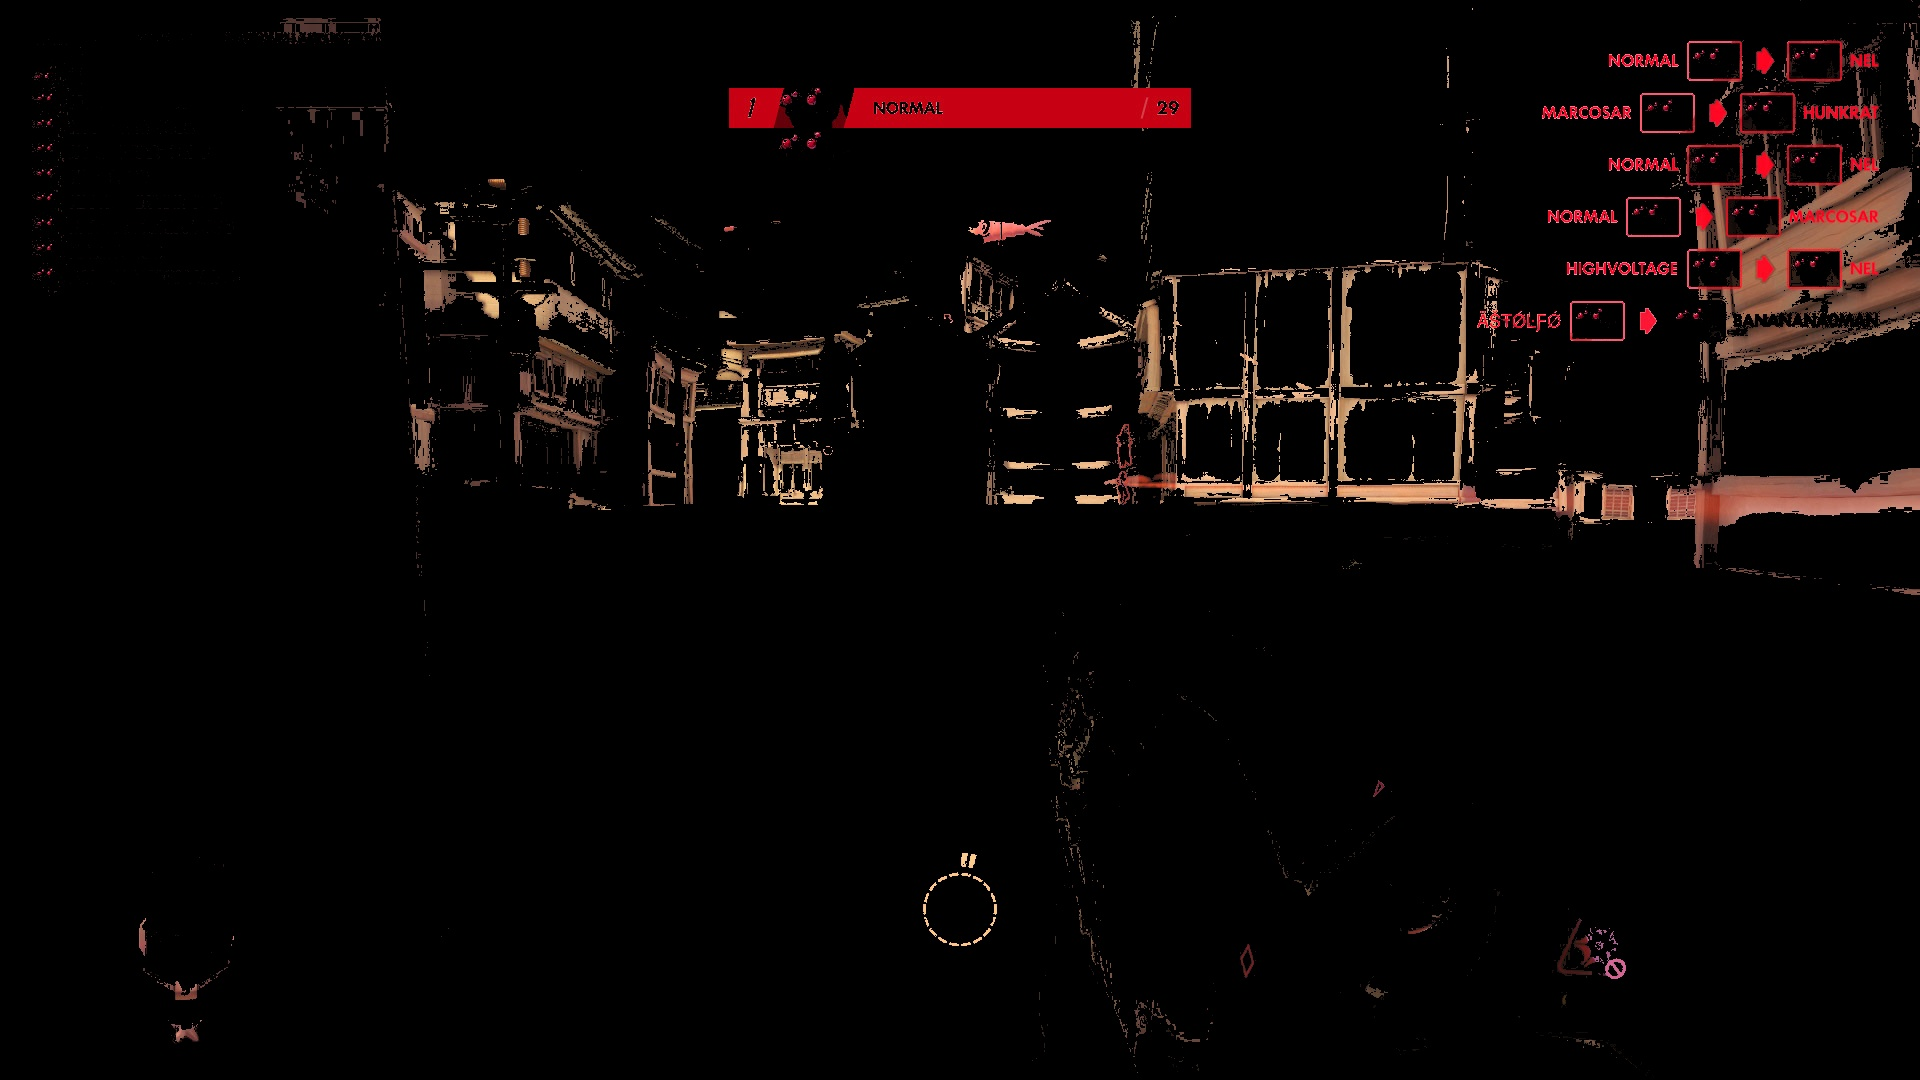widowmaker: (1106, 469, 1139, 514), (1112, 423, 1139, 473)
